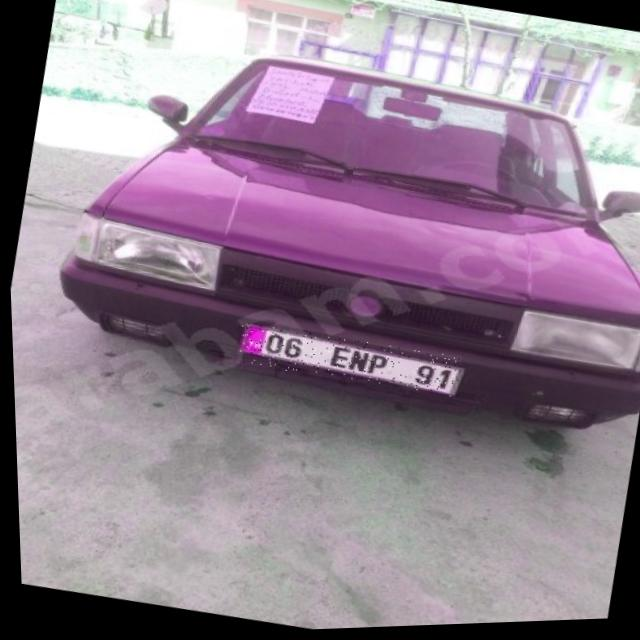license_plate: (232, 318, 461, 408)
